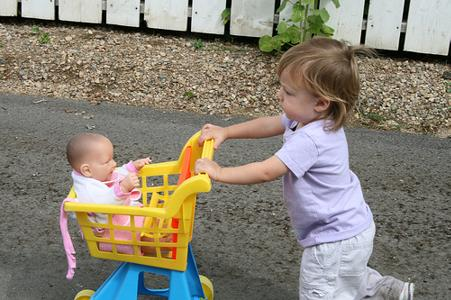person: (195, 37, 416, 300)
